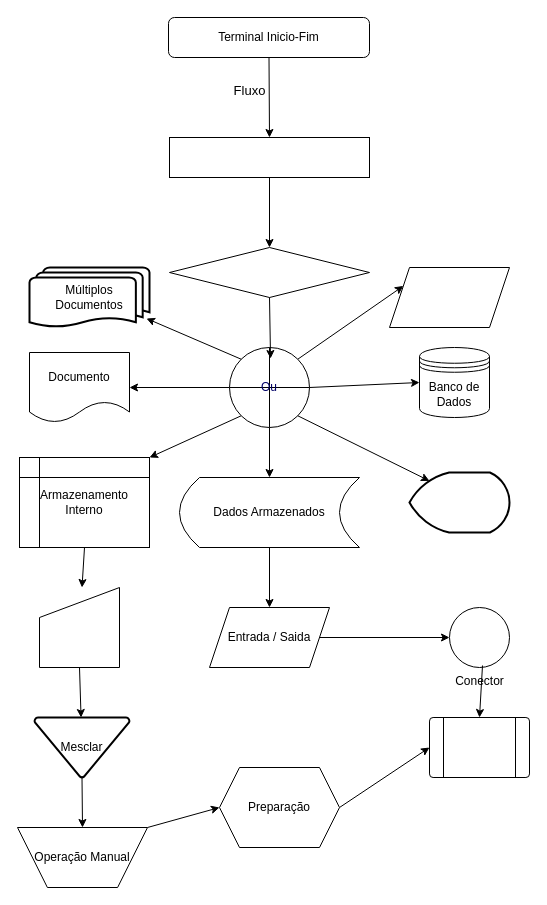
The diagram is 547 pixels wide and 905 high, and some of its shapes have lost their labels. Each missing label, with the centre of its shape:
"Dados" belongs at point 449,297.
"Decisão" belongs at point 269,272.
"Display" belongs at point 459,502.
"Entrada Manual" belongs at point 79,627.
"Processo" belongs at point 269,157.
"Processo Predefinido" belongs at point 479,747.
